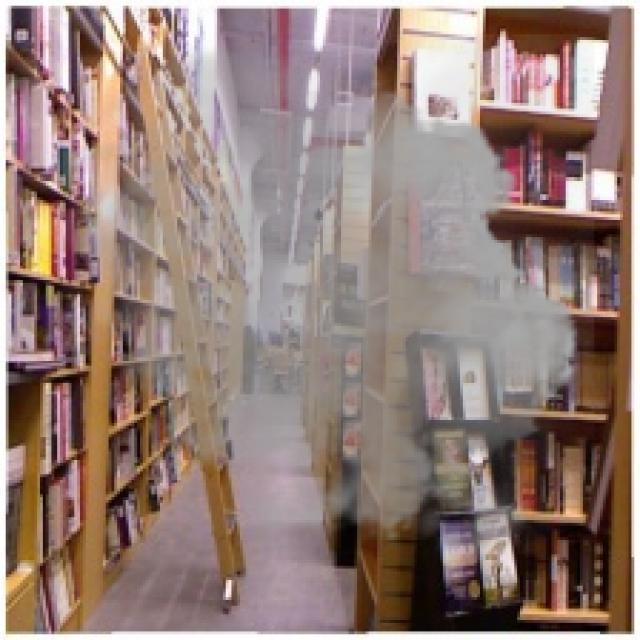Smoke: (39, 34, 594, 572)
